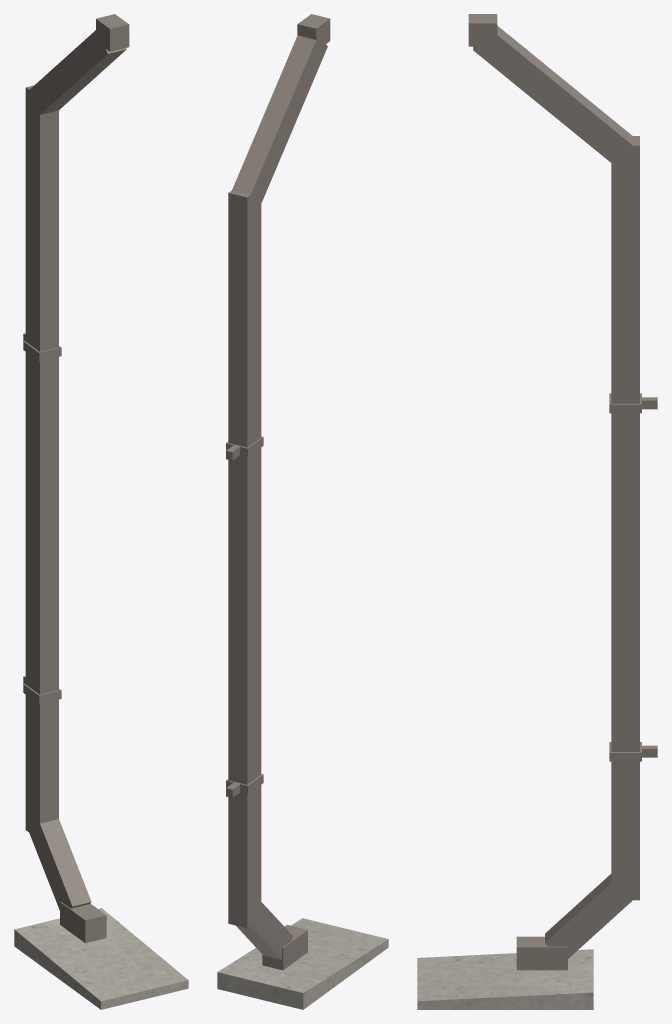
File: downspout.glb
The picture shows the model from 3 angles, left to right: view 1: azimuth 30°, elevation 25°; view 2: azimuth 150°, elevation 25°; view 3: azimuth 270°, elevation 25°; orthographic projection. The views are drawn at different scales.
Parts seen in each view (by area): view 1: downspout_gutter, downspout_concrete; view 2: downspout_gutter, downspout_concrete; view 3: downspout_gutter, downspout_concrete.
Boxes of the visible parts, <box> form: downspout_gutter: <box>23,14,129,943</box>; downspout_concrete: <box>14,908,188,1009</box>; downspout_gutter: <box>226,14,330,970</box>; downspout_concrete: <box>217,918,388,1009</box>; downspout_gutter: <box>468,14,657,970</box>; downspout_concrete: <box>417,949,593,1009</box>.
Size of the model in its own units: 0.32 by 3.34 by 0.75.
Materials: 2 (1 with a texture image).
